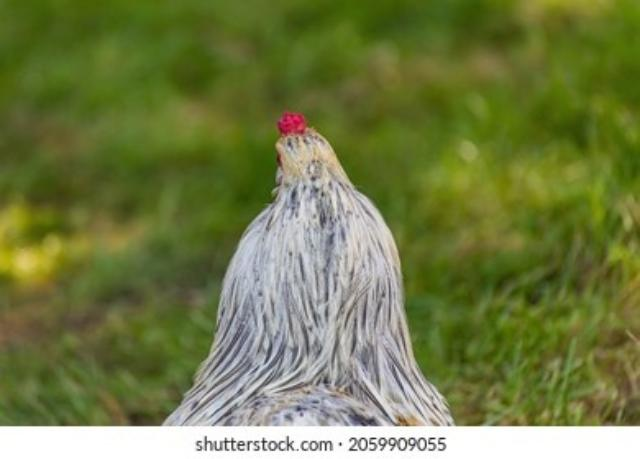Chicken: (161, 110, 457, 426)
